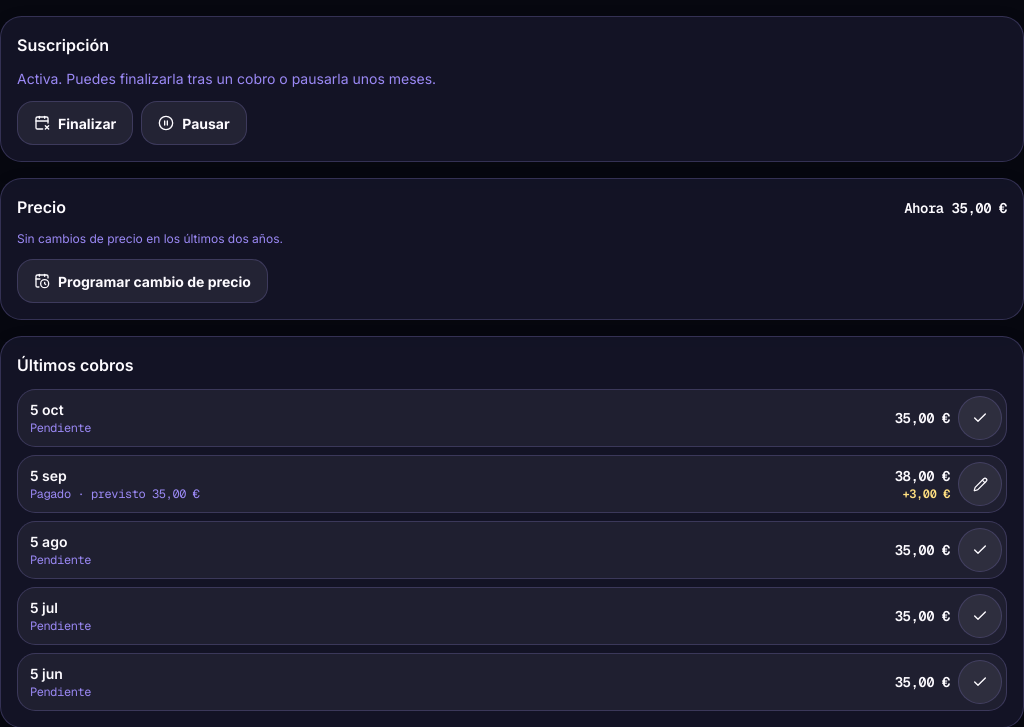
Test case: SeriesDetailSections › schedules and removes a price change
Click the button "Programar cambio de precio".
click(142, 281)  # box left=17, top=259, right=268, bottom=303
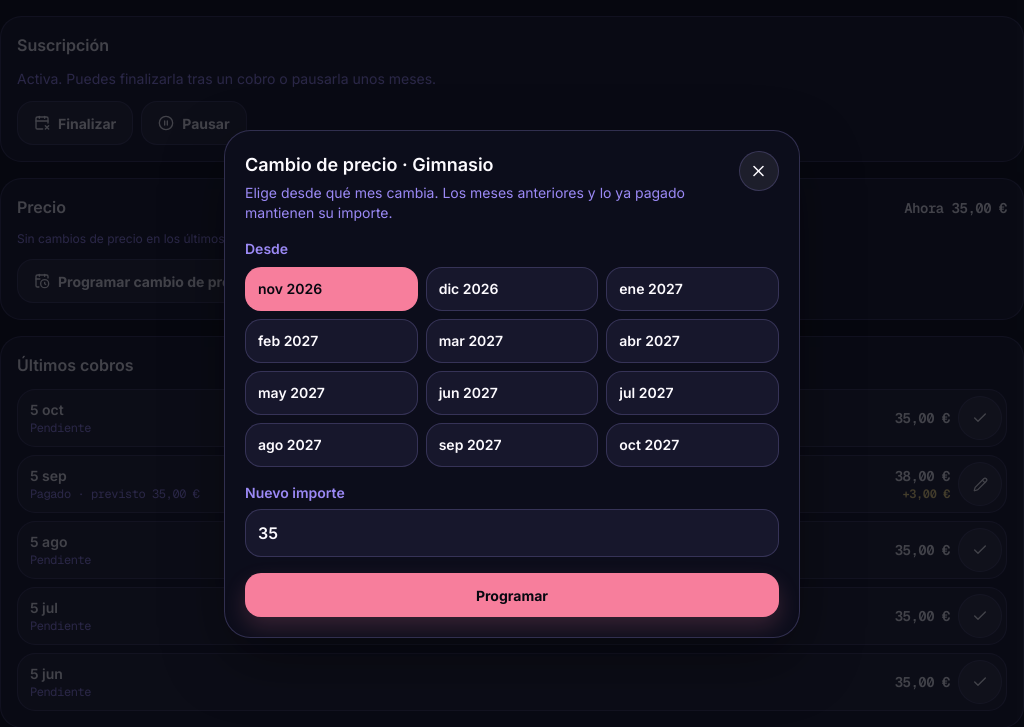
Click the radio button labelled "mar 2027".
click(512, 341)  # box left=426, top=319, right=598, bottom=363
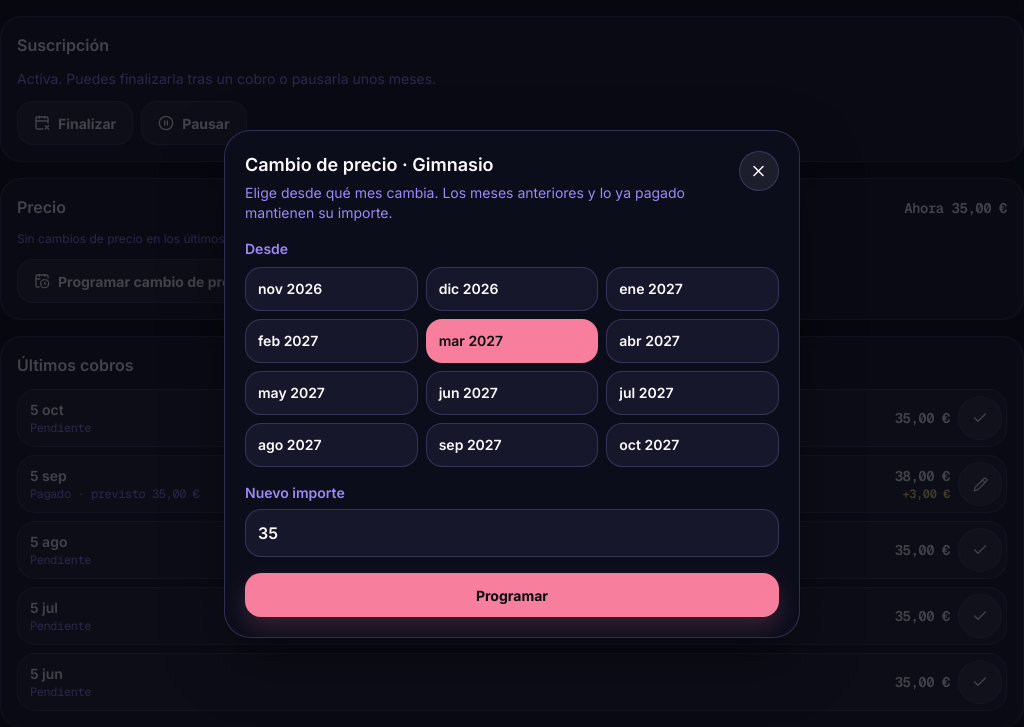
Replace the text in the field labelled "Nuevo importe" with "39,90" at (512, 533), box left=245, top=509, right=779, bottom=557
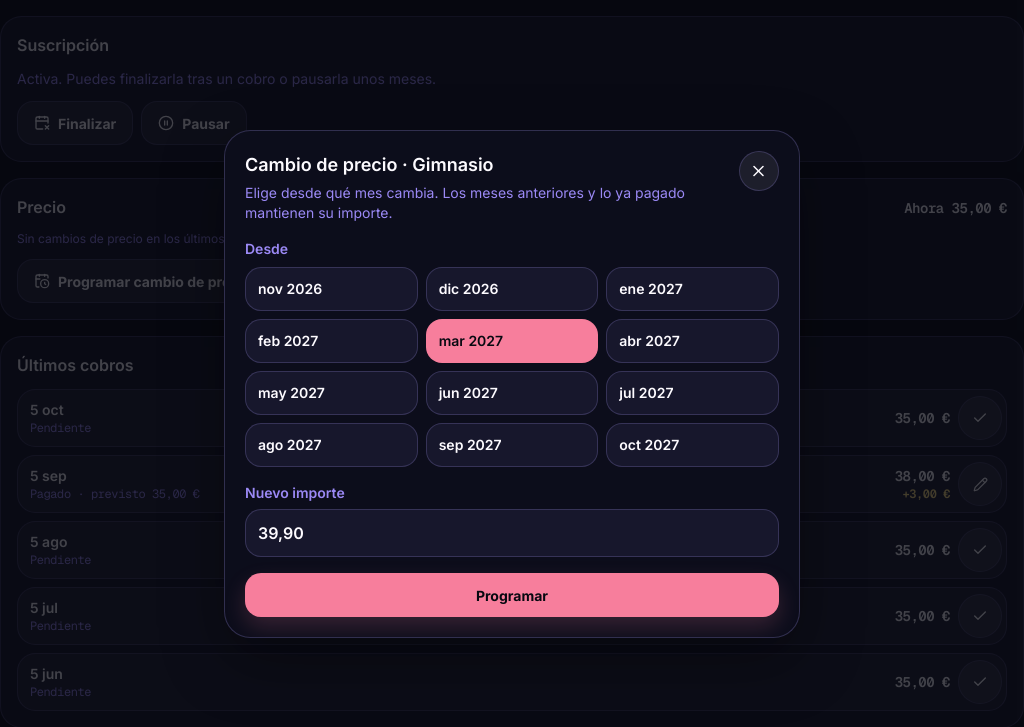
Click the button "Programar".
click(512, 595)  # box left=245, top=573, right=779, bottom=617
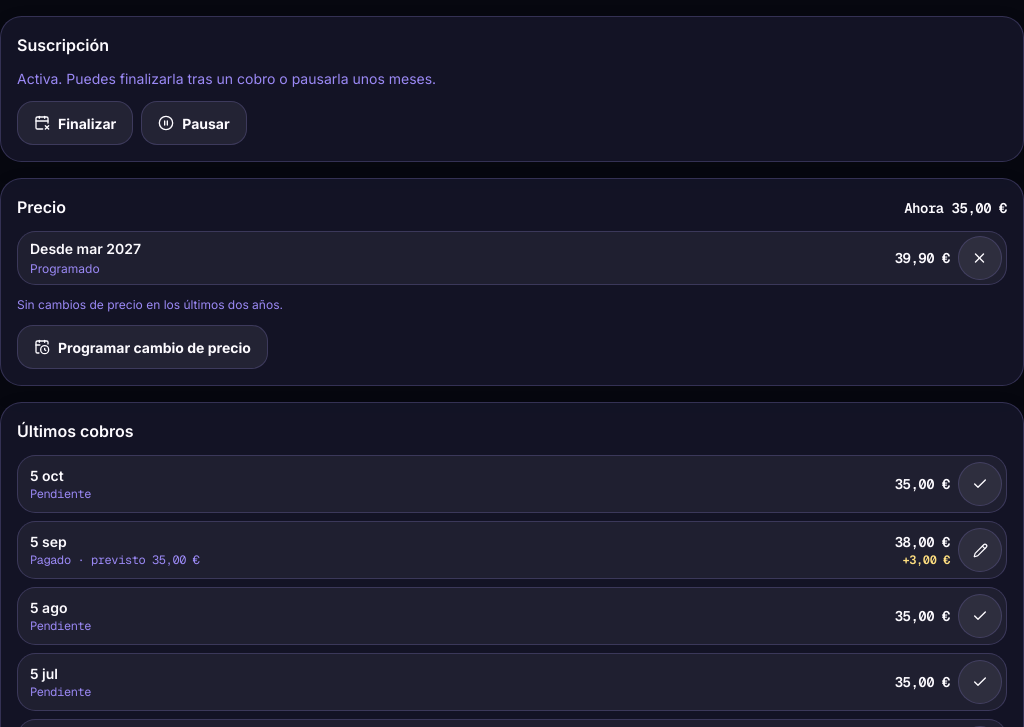
Now the element "Precio" shows "Desde mar 2027", box left=30, top=240, right=141, bottom=257
Now the element "Precio" shows "Programado", box left=30, top=261, right=100, bottom=276
Click the button named "Quitar el cambio de precio de mar 2027".
click(980, 258)  # box left=958, top=236, right=1002, bottom=280
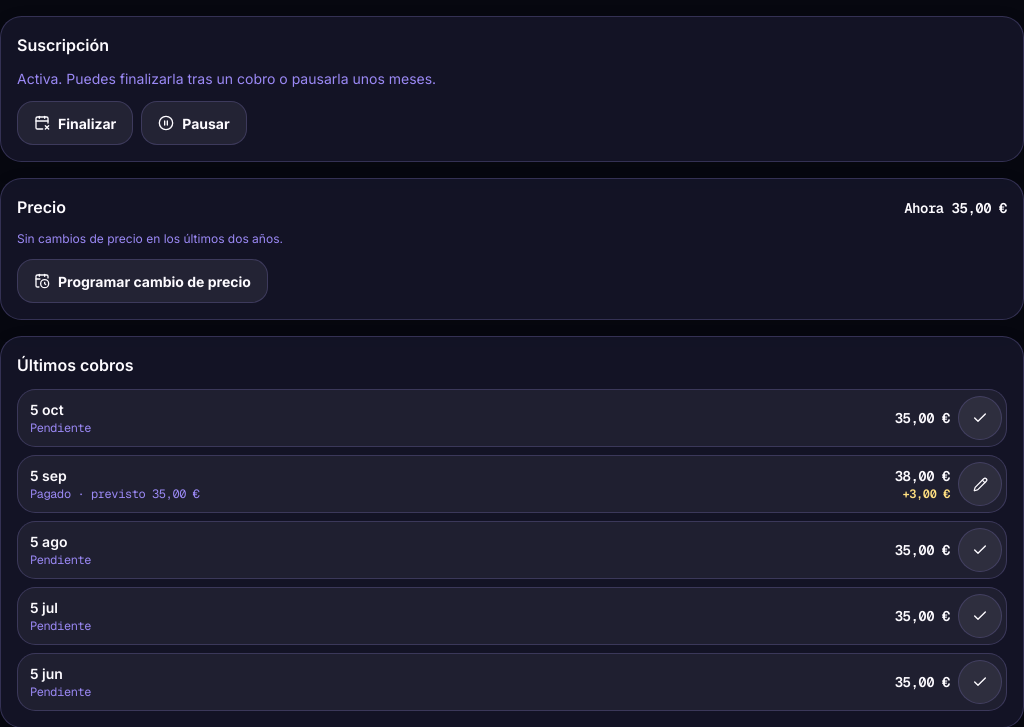
Now the element "Precio" no longer shows "Programado", box left=0, top=178, right=1023, bottom=320
